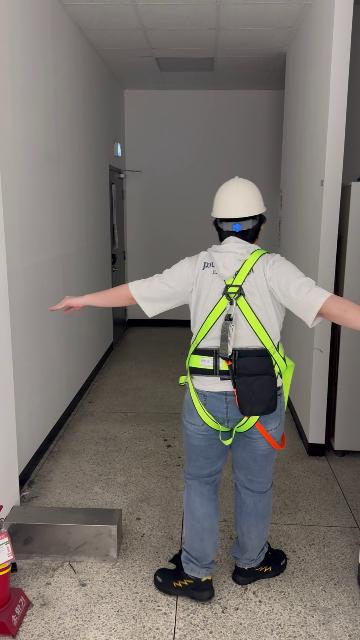helmet_worn: (210, 175, 268, 220)
shoe_worn: (153, 552, 215, 600), (232, 543, 287, 586)
vest_worn: (176, 252, 295, 443)
